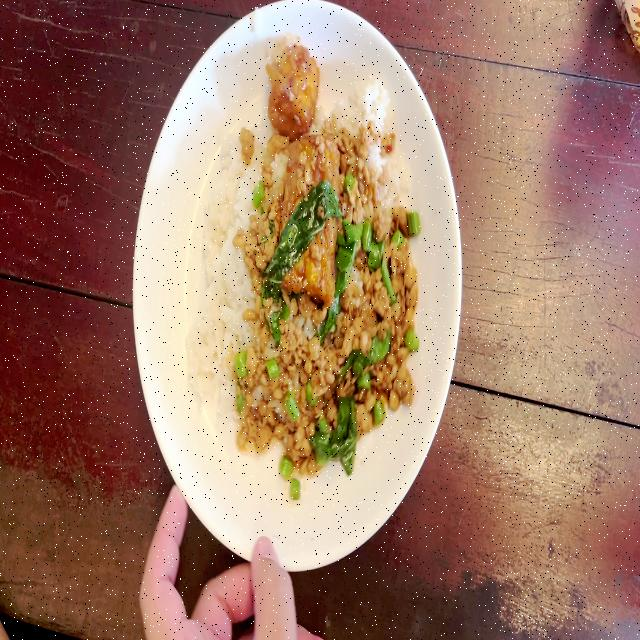fried_tofo: (283, 137, 335, 293), (266, 41, 314, 133)
minced_pork: (336, 122, 414, 424), (272, 303, 373, 460), (240, 130, 282, 456), (236, 129, 261, 168), (312, 138, 332, 166), (297, 153, 312, 190)
rice: (194, 133, 252, 424), (354, 69, 388, 128)
stir_fried_basil: (187, 43, 419, 496)
